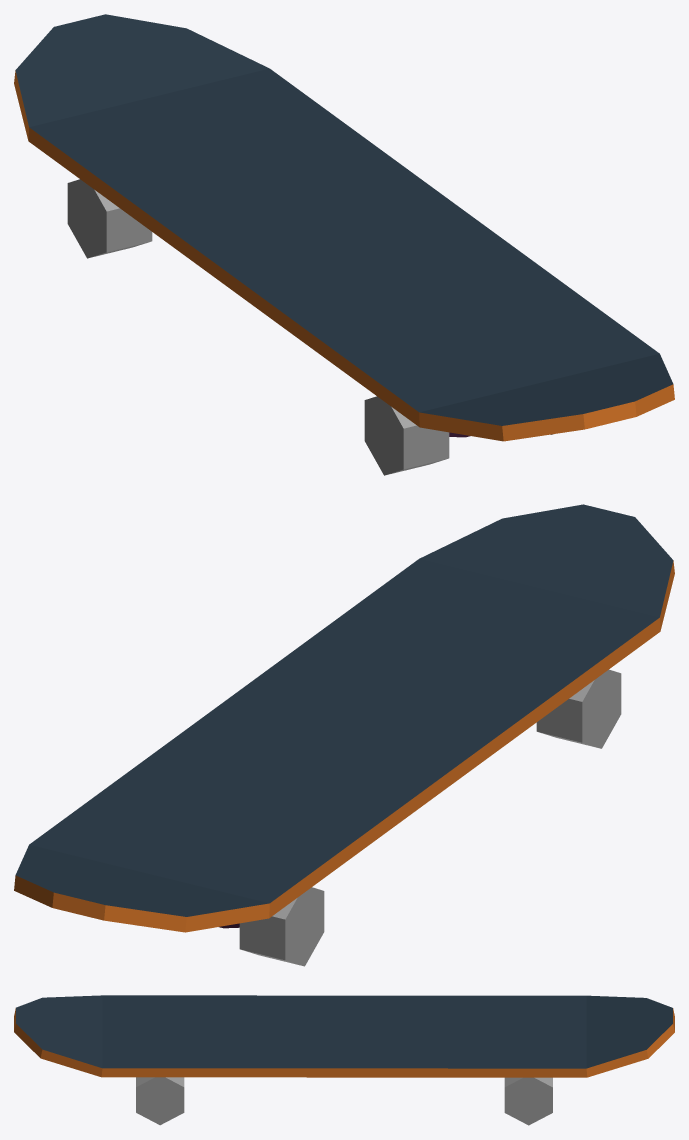
The model's file is Skateboard.fbx.
3 renders of one model, top to bottom at view 1: azimuth 30°, elevation 25°; view 2: azimuth 150°, elevation 25°; view 3: azimuth 270°, elevation 25°, orthographic. The views are drawn at different scales.
Visible parts, largest first — view 1: Skateboard, Skateboard_W002, Skateboard_W003; view 2: Skateboard, Skateboard_W003, Skateboard_W002; view 3: Skateboard, Skateboard_W004, Skateboard_W001.
Part boxes in pixels (<box>): Skateboard: <box>14,14,674,441</box>; Skateboard_W002: <box>364,396,449,475</box>; Skateboard_W003: <box>67,179,152,258</box>; Skateboard: <box>14,504,674,932</box>; Skateboard_W003: <box>239,887,324,966</box>; Skateboard_W002: <box>536,669,621,748</box>; Skateboard: <box>14,995,674,1077</box>; Skateboard_W004: <box>504,1077,552,1125</box>; Skateboard_W001: <box>136,1077,184,1125</box>.
Size of the model in its own units: 19.1 by 9.61 by 73.16.
